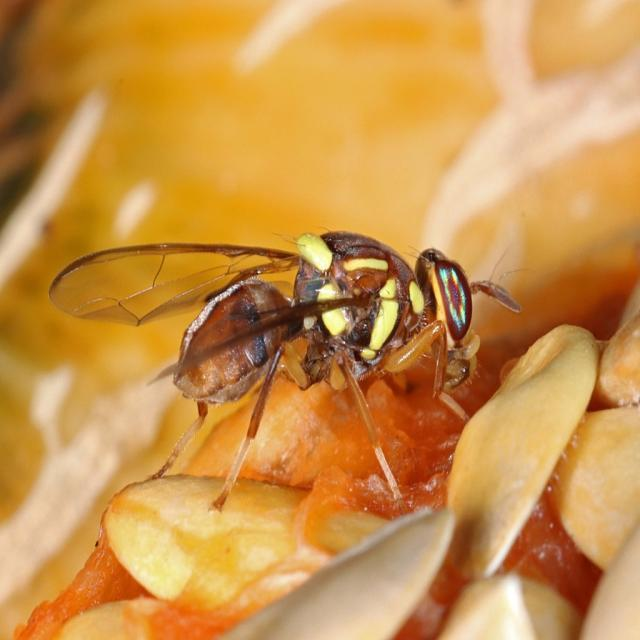Fruit fly: (34, 227, 545, 520)
